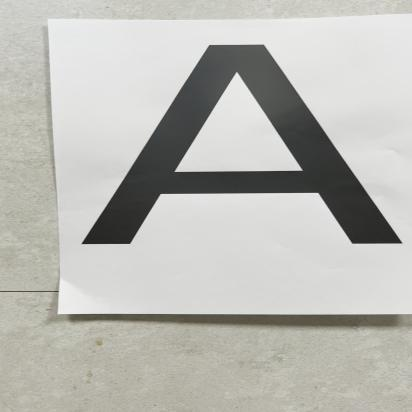seat: (75, 28, 412, 261)
